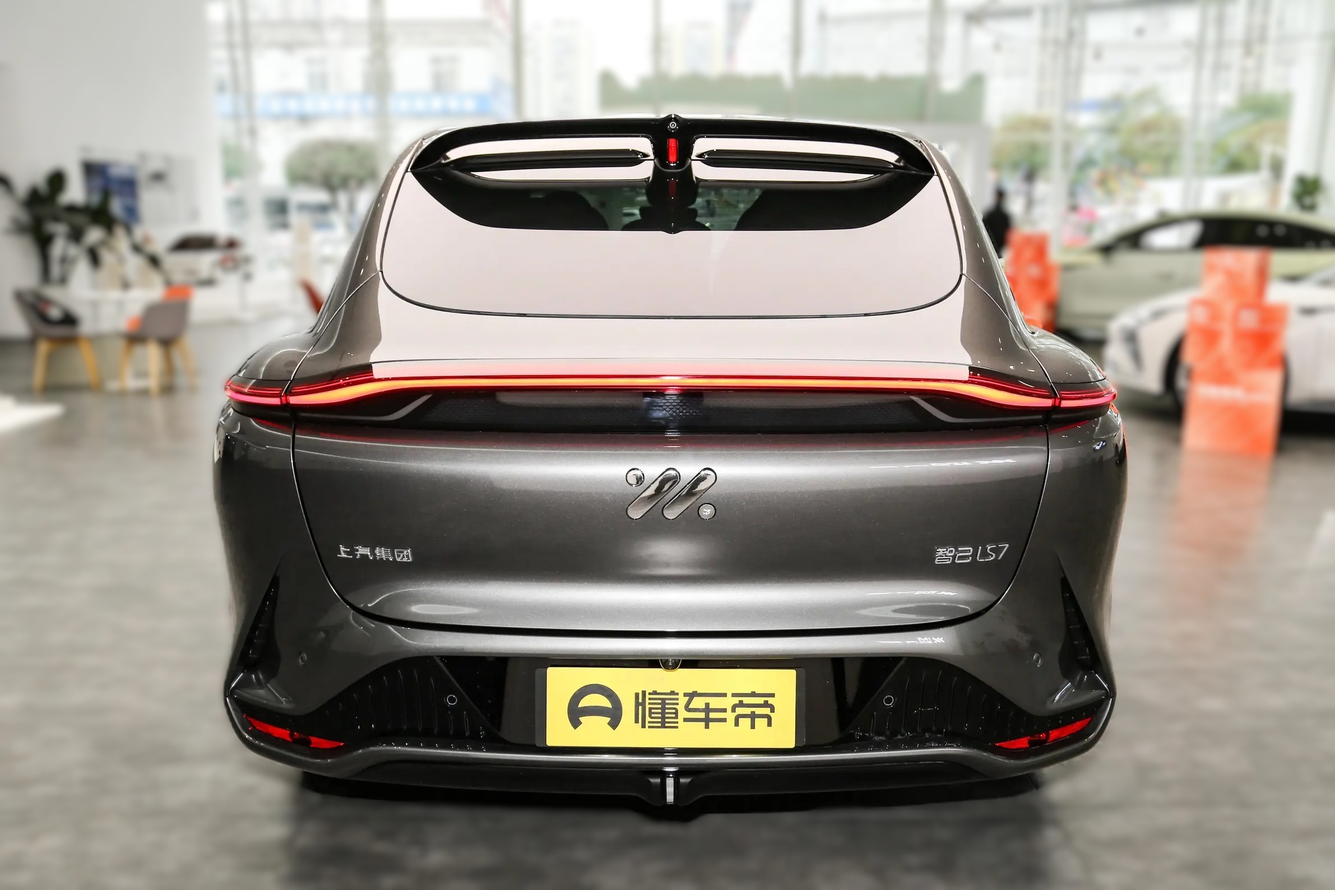IM: (627, 470, 715, 518)
